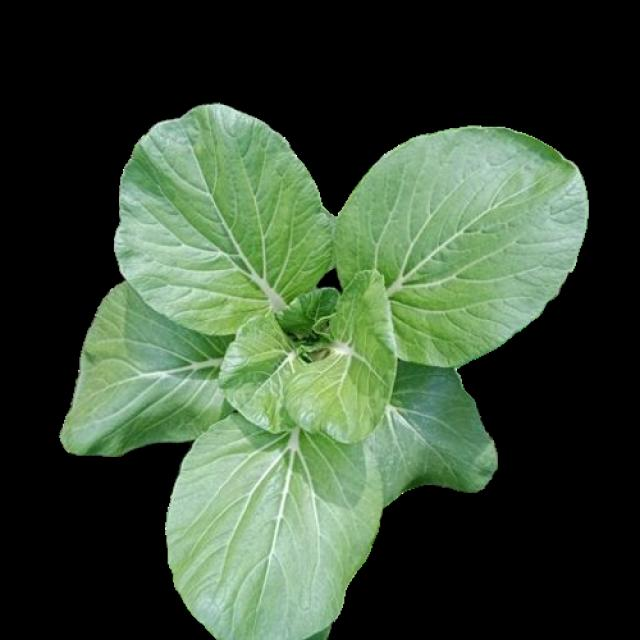healthy: (64, 124, 582, 638)
mature: (61, 106, 585, 640)
